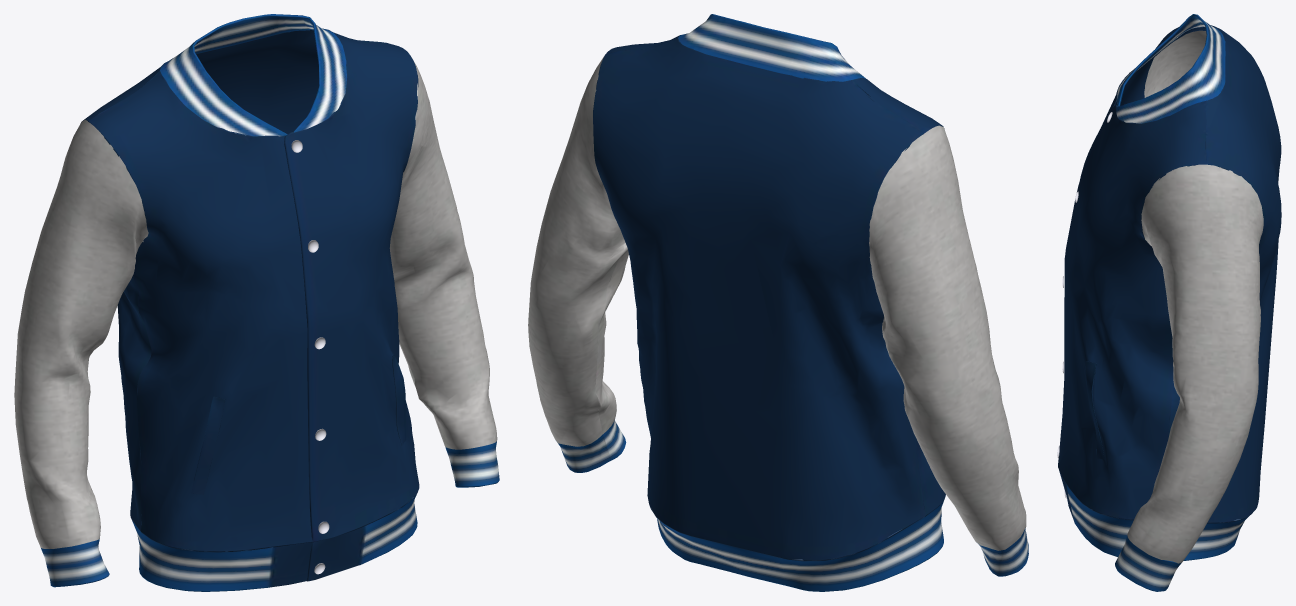
File: chaqueta-varsity-lite.glb
3 views of the same model, side by side, from view 1: azimuth 30°, elevation 25°; view 2: azimuth 150°, elevation 25°; view 3: azimuth 270°, elevation 25° (orthographic). The views are drawn at different scales.
Visible parts, largest first — view 1: Object_2, Object_5; view 2: Object_2; view 3: Object_2.
Part boxes in pixels (x1,y1,x2,y2): Object_2: [14, 14, 499, 591]; Object_5: [291, 140, 329, 574]; Object_2: [528, 14, 1028, 591]; Object_2: [1058, 14, 1281, 591].
Size of the model in its own units: 0.6409 by 0.6999 by 0.2936.
Materials: 2 (1 with a texture image).
